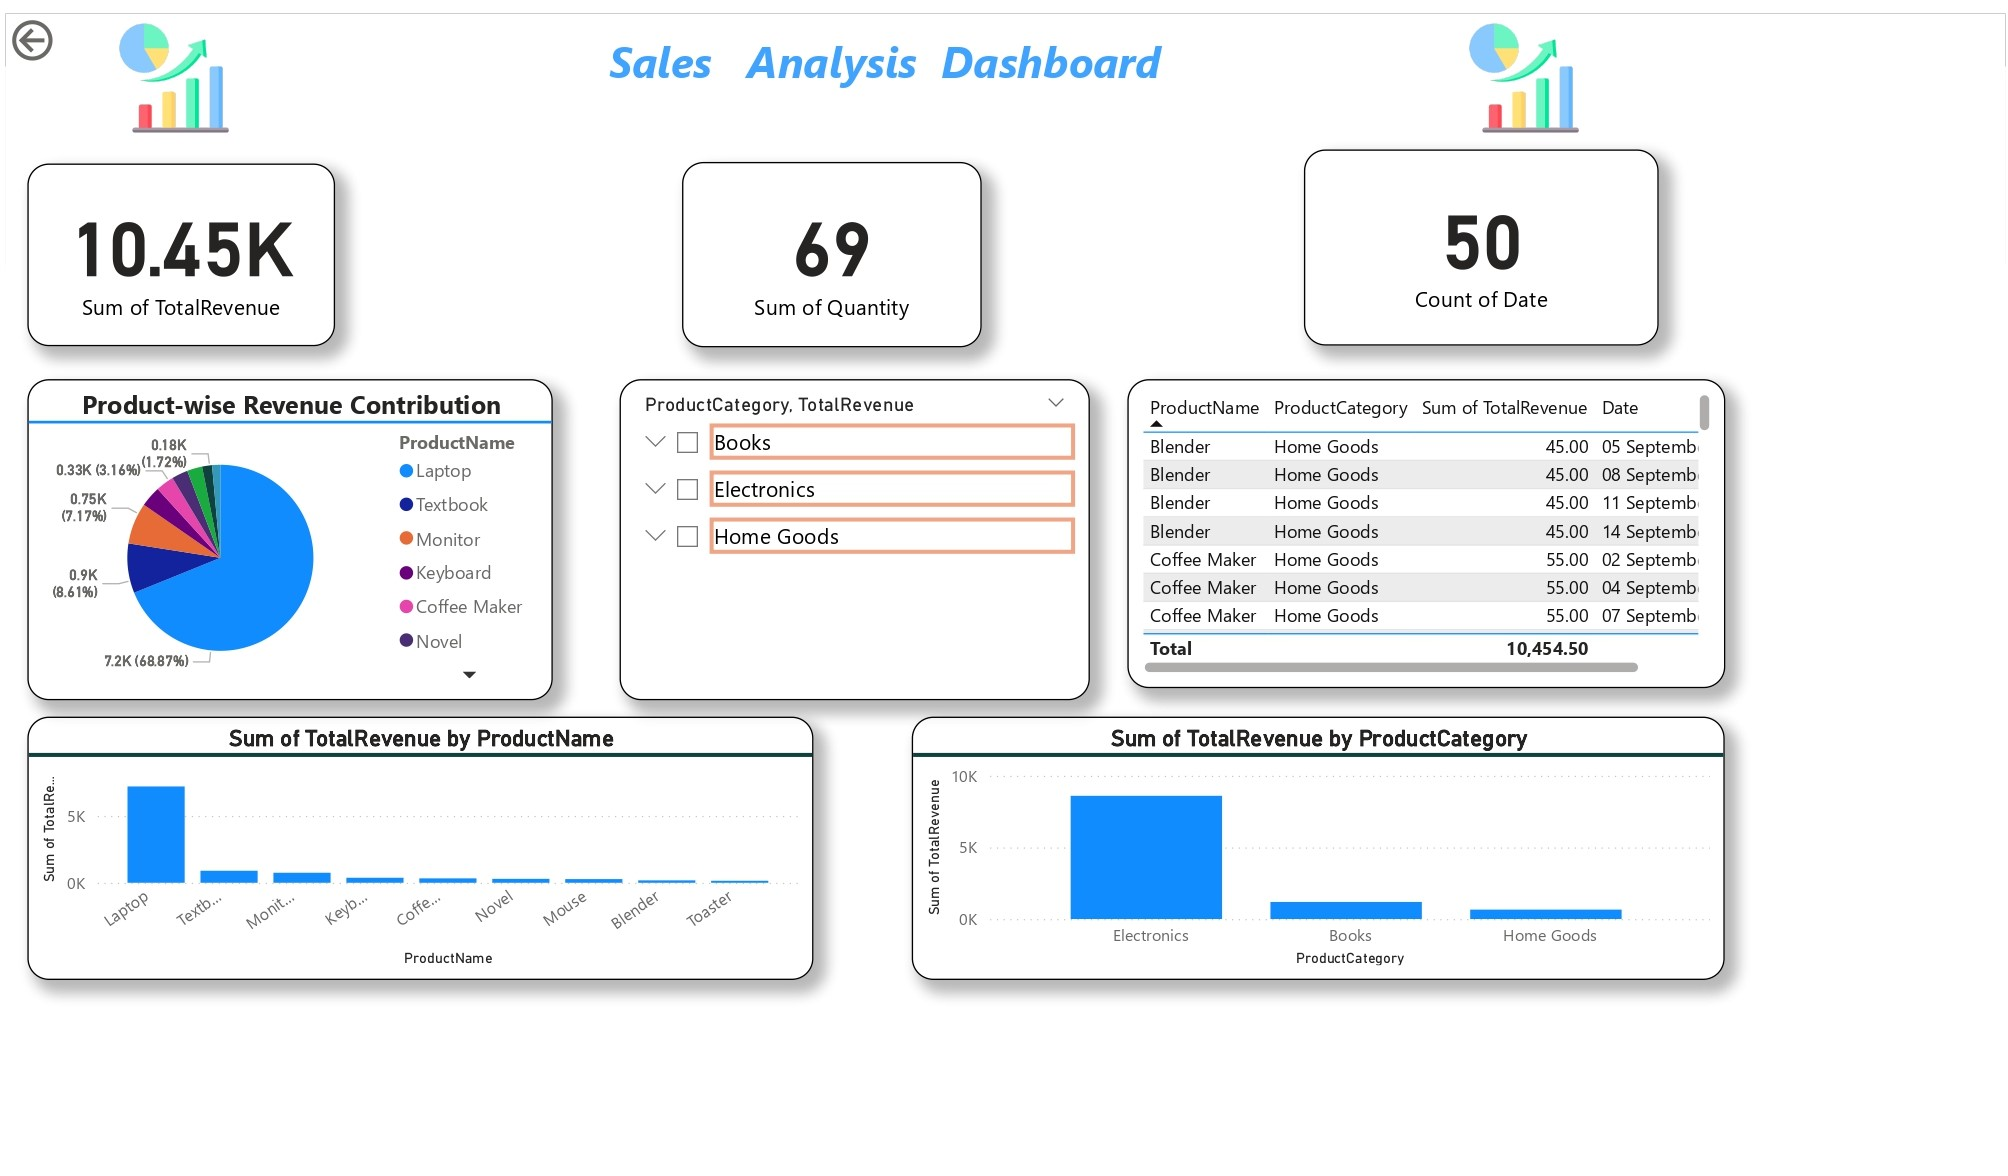

This screenshot's page, from the dashboard's own definition file:
{"tool":"powerbi","page":{"name":"Page 1","canvas":[1280,720],"ordinal":0},"visuals":[{"type":"card","fields":{"Values":["Sum(Sheet1.TotalRevenue)"]},"box":[15.9,111.3,228.7,135.7],"z":0},{"type":"pieChart","title":"Product-wise Revenue Contribution","fields":{"Series":["Sheet1.ProductName"],"Category":["Sheet1.ProductName"],"Y":["Sum(Sheet1.TotalRevenue)"]},"box":[16.2,272.5,391.2,238.8],"z":1000},{"type":"slicer","fields":{"Values":["Sheet1.ProductCategory","Sheet1.TotalRevenue"]},"box":[457.5,272.5,350,238.8],"z":2000},{"type":"tableEx","fields":{"Values":["Sheet1.ProductName","Sheet1.ProductCategory","Sum(Sheet1.TotalRevenue)","Sheet1.Date"]},"box":[835,272.5,445,230],"z":3000},{"type":"actionButton","box":[0,0,100,40],"z":4000},{"type":"card","fields":{"Values":["Sum(Sheet1.Quantity)"]},"box":[503.8,110,222.5,137.5],"z":5000},{"type":"card","fields":{"Values":["CountNonNull(Sheet1.Date)"]},"box":[966,101.5,264.1,145.5],"z":6000},{"type":"clusteredColumnChart","fields":{"Category":["Sheet1.ProductCategory"],"Y":["Sum(Sheet1.TotalRevenue)"]},"box":[675,523.8,605,196.2],"z":7000},{"type":"clusteredColumnChart","fields":{"Category":["Sheet1.ProductName"],"Y":["Sum(Sheet1.TotalRevenue)"]},"box":[16.2,523.8,585,196.2],"z":8000},{"type":"textbox","box":[160.2,8.6,969.7,86.8],"z":9000},{"type":"image","box":[40,0,172.9,95.7],"z":10000},{"type":"image","box":[1030,0,200,95.7],"z":11000}]}

Visuals, with their boxes on the page's 1280x720 design canvas (x1, y1, x2, y2). These are canvas units, not pixel positions in the 2008x1176 screenshot, which may show the page scaled, cropped or inside an application window:
card - Sum(Sheet1.TotalRevenue): select_region(16, 111, 245, 247)
"Product-wise Revenue Contribution" pieChart: select_region(16, 272, 407, 511)
slicer - Sheet1.ProductCategory x Sheet1.TotalRevenue: select_region(458, 272, 808, 511)
tableEx - Sheet1.ProductName x Sheet1.ProductCategory: select_region(835, 272, 1280, 502)
actionButton: select_region(0, 0, 100, 40)
card - Sum(Sheet1.Quantity): select_region(504, 110, 726, 248)
card - CountNonNull(Sheet1.Date): select_region(966, 102, 1230, 247)
clusteredColumnChart - Sheet1.ProductCategory x Sum(Sheet1.TotalRevenue): select_region(675, 524, 1280, 720)
clusteredColumnChart - Sheet1.ProductName x Sum(Sheet1.TotalRevenue): select_region(16, 524, 601, 720)
textbox: select_region(160, 9, 1130, 95)
image: select_region(40, 0, 213, 96)
image: select_region(1030, 0, 1230, 96)
